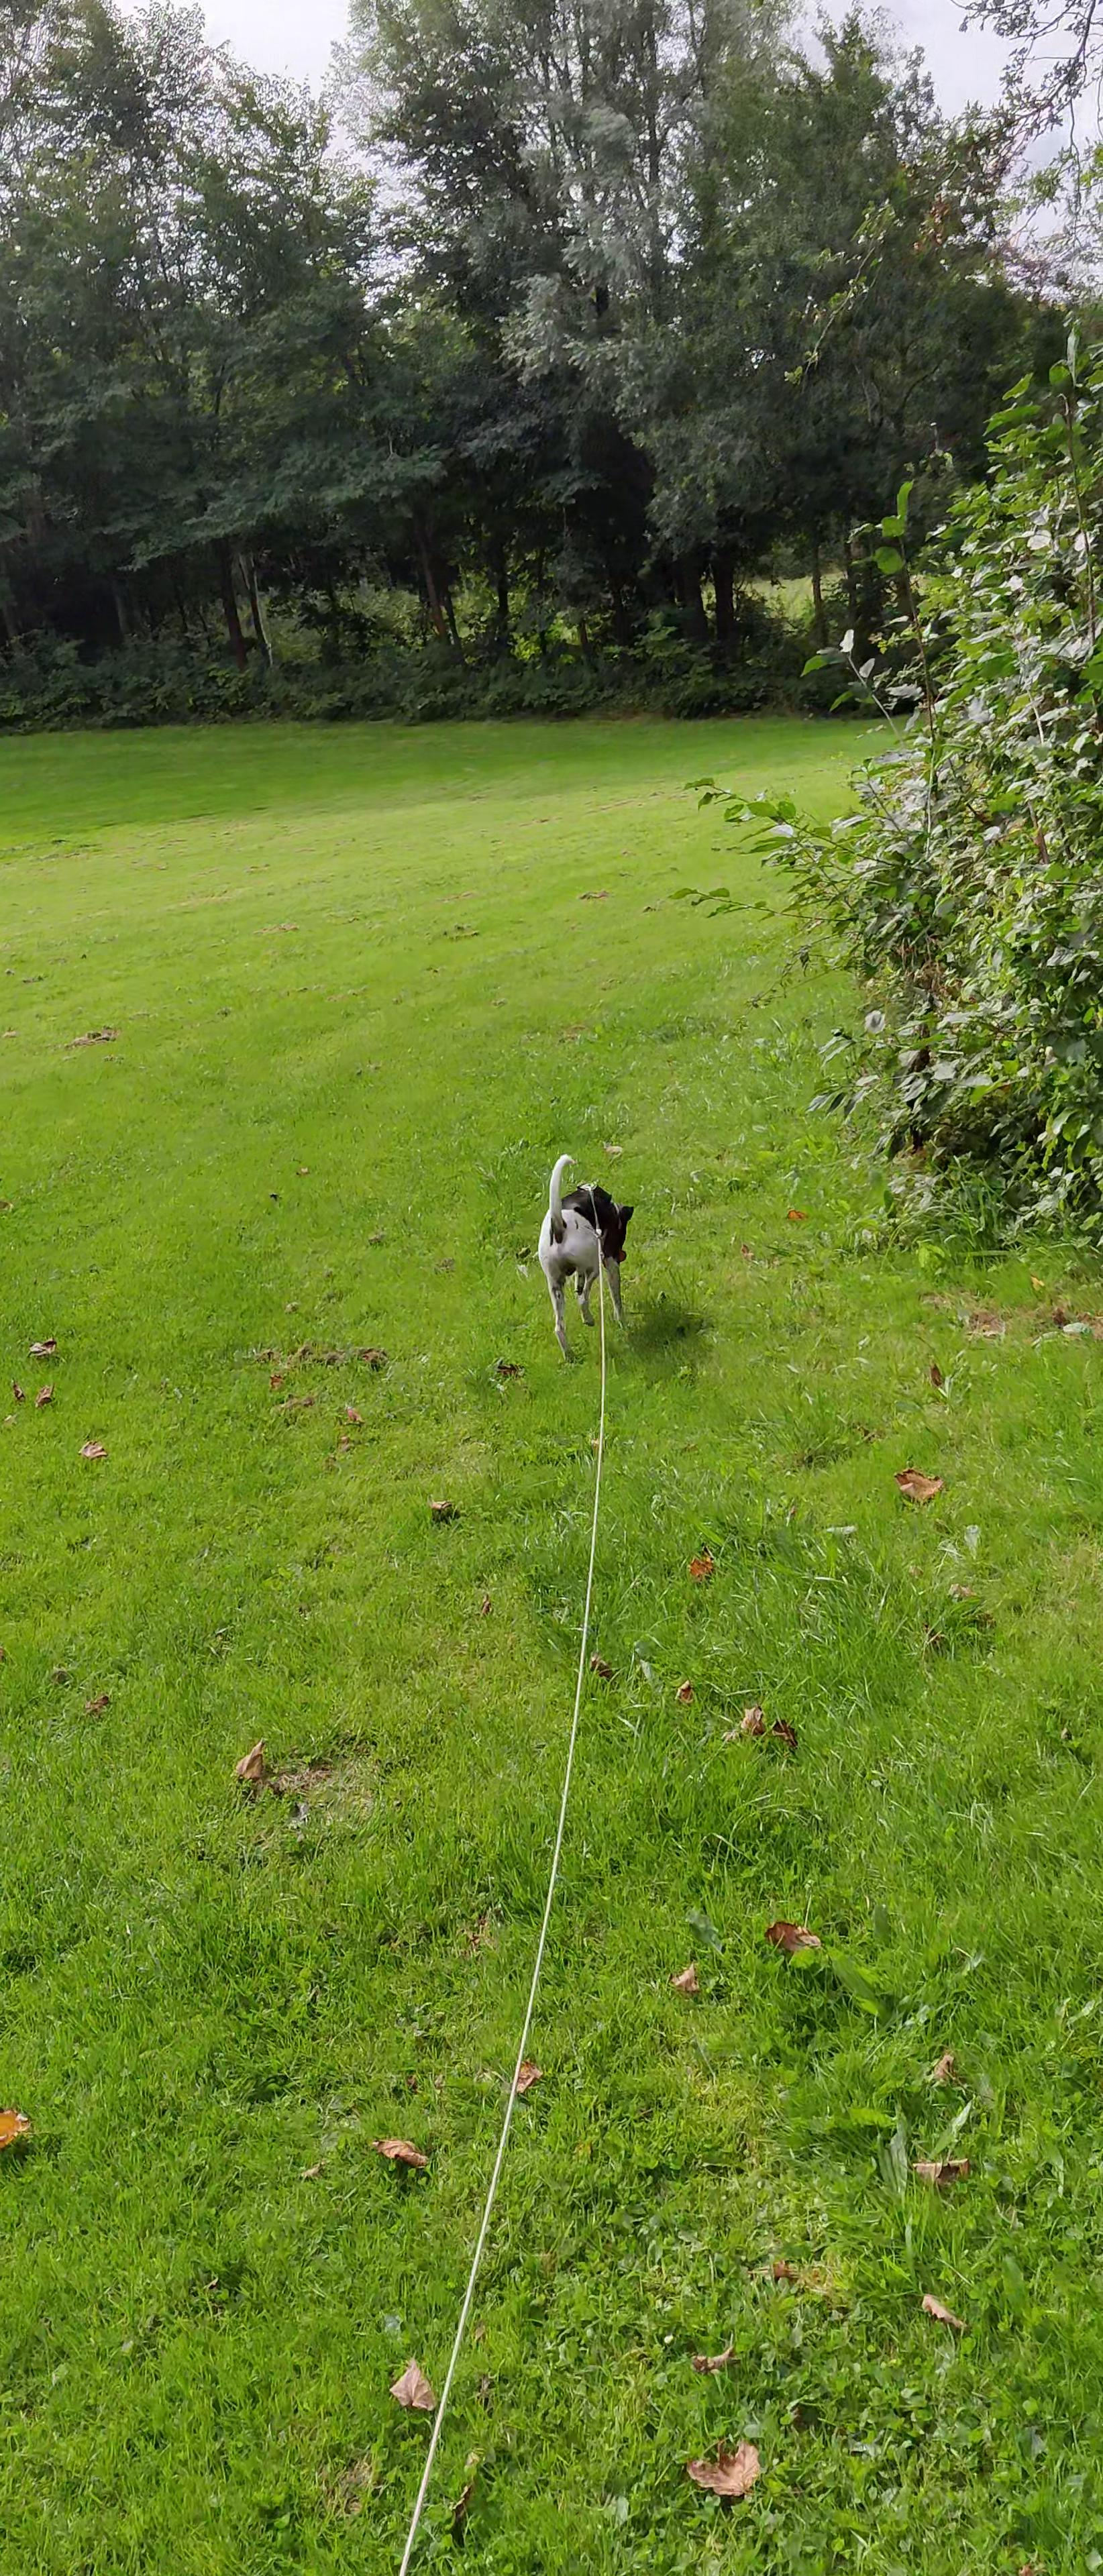Dog: (531, 1150, 636, 1365)
